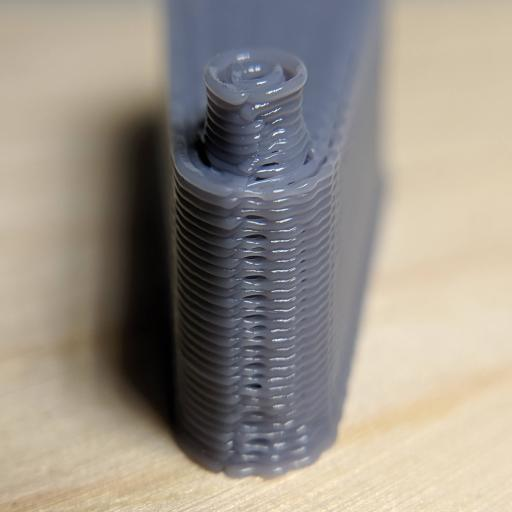cracks: (237, 204, 281, 420)
